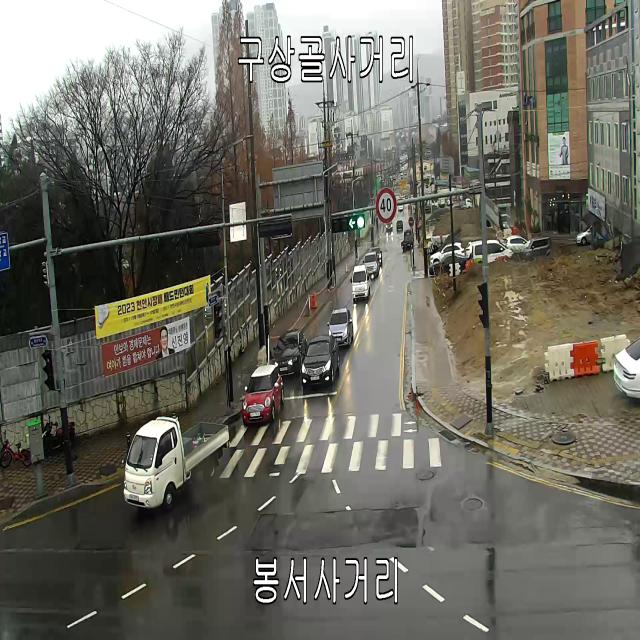Car: (242, 364, 284, 425), (301, 335, 340, 388), (613, 334, 640, 398), (272, 331, 308, 377), (326, 306, 354, 347), (471, 241, 513, 264), (430, 242, 465, 265), (429, 255, 467, 276), (524, 237, 552, 258), (362, 251, 378, 277), (576, 224, 593, 246), (371, 247, 383, 266), (460, 198, 472, 209), (466, 242, 472, 258), (396, 220, 403, 231), (386, 221, 393, 232), (398, 205, 403, 211)
Truck: (124, 414, 230, 509), (351, 264, 371, 302), (401, 229, 414, 252)
